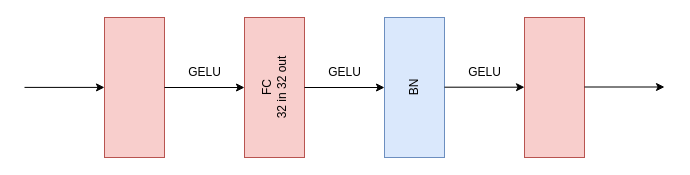
Image size: 690x175. Some labels were removed from this diagram. Each missing label, with the centre of its shape:
FC 32 in 3 out: pixel 554 87
FC 4 in 32 out: pixel 134 87
